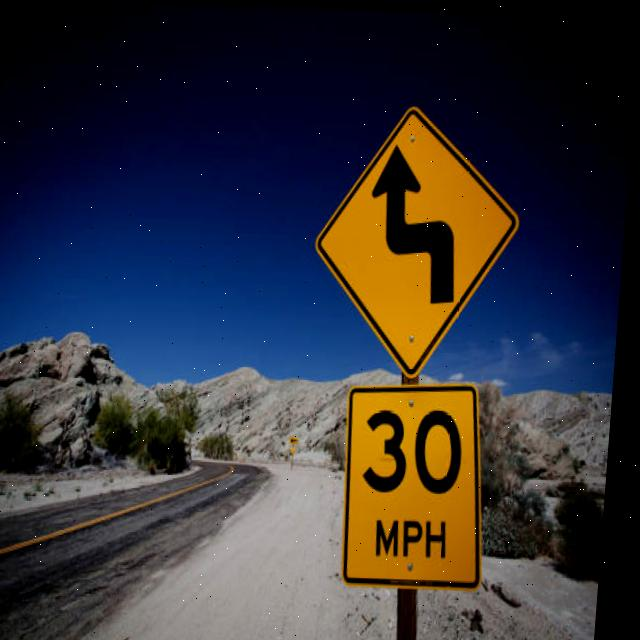Speed limit 30: (342, 375, 503, 591)
